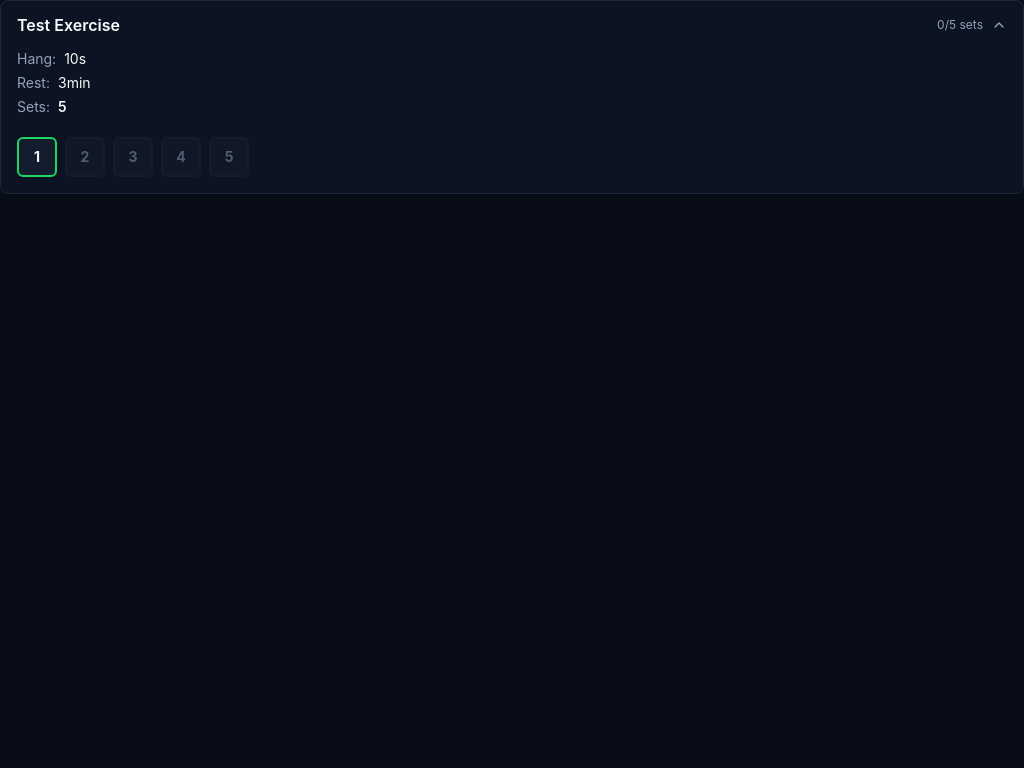
Test case: ExerciseBlock - Sequential Set Logic › confirming revert makes set clickable again
Click the button named "Set 1": click(37, 157) [17,137,57,177]
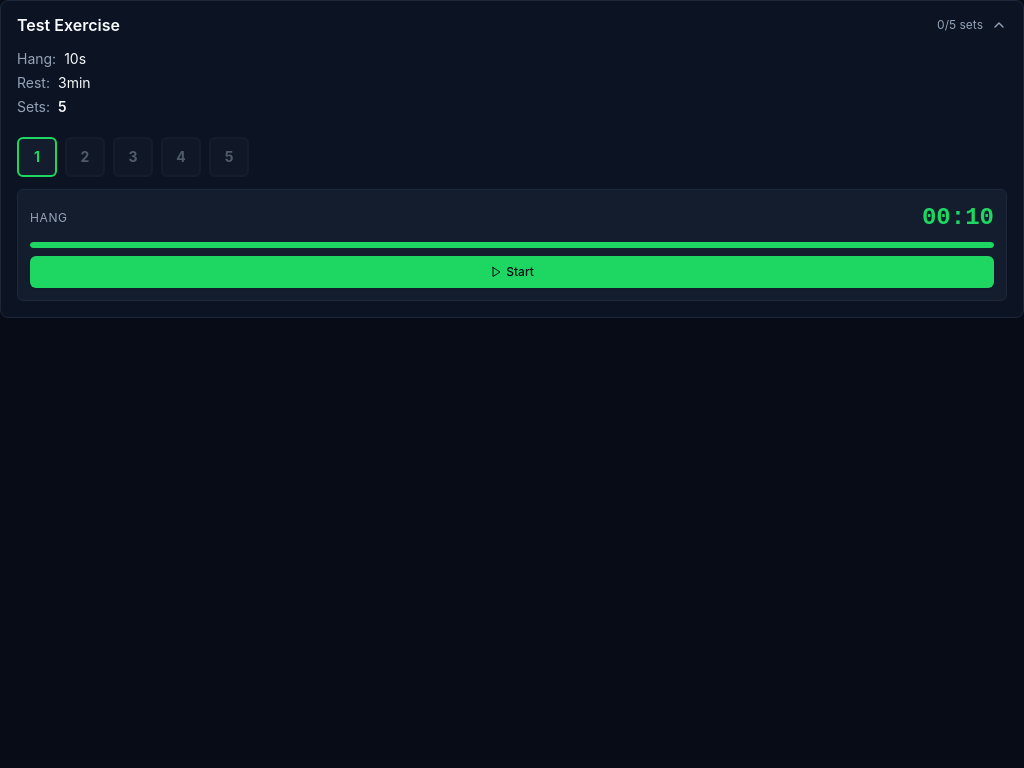
Click the button "Start": click(512, 272) [30,256,994,288]
Wait 11000 ms
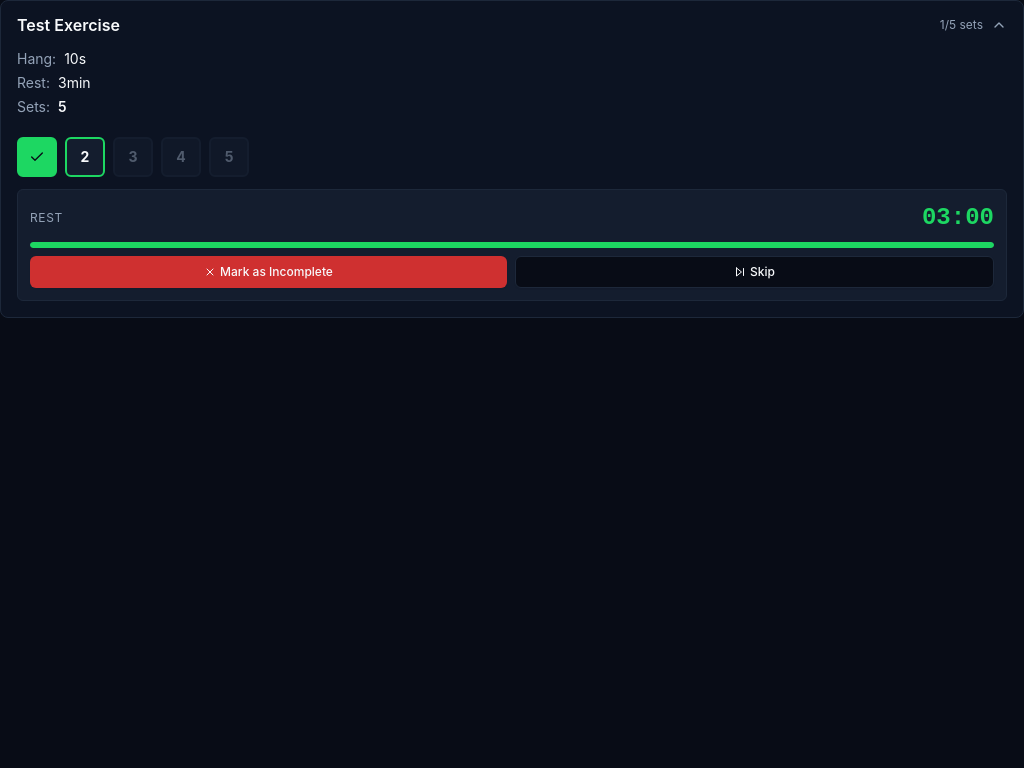
Click the button "Skip": click(754, 272) [515,256,994,288]
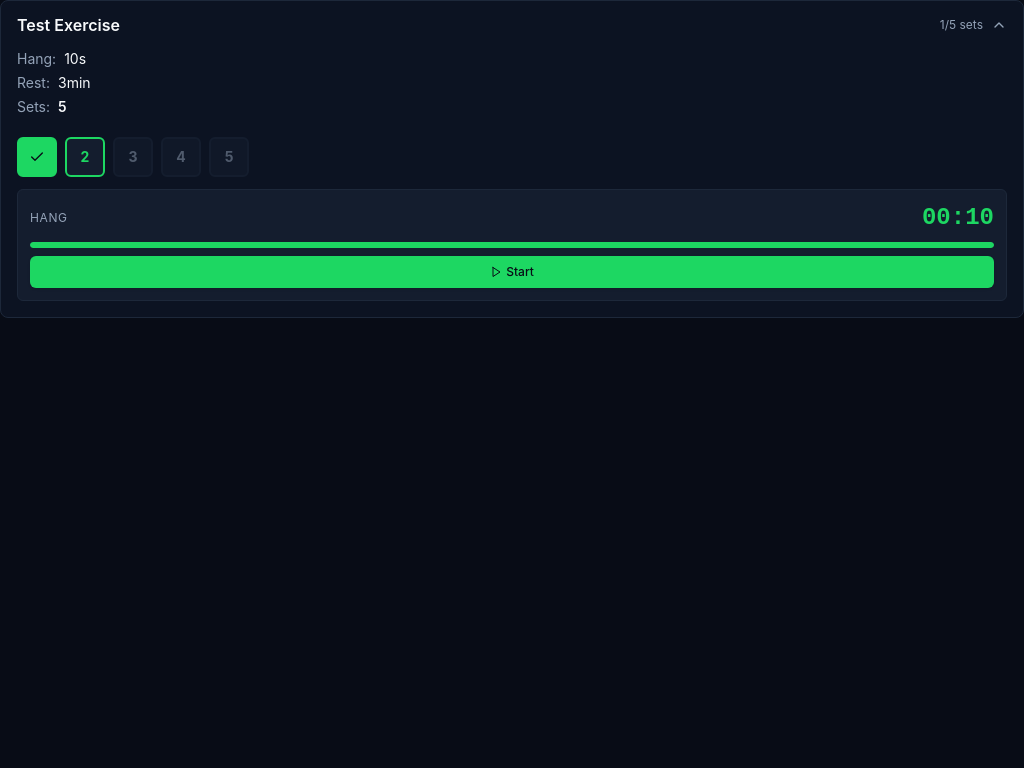
Click the button named "Set 1 (completed)": click(37, 157) [17,137,57,177]
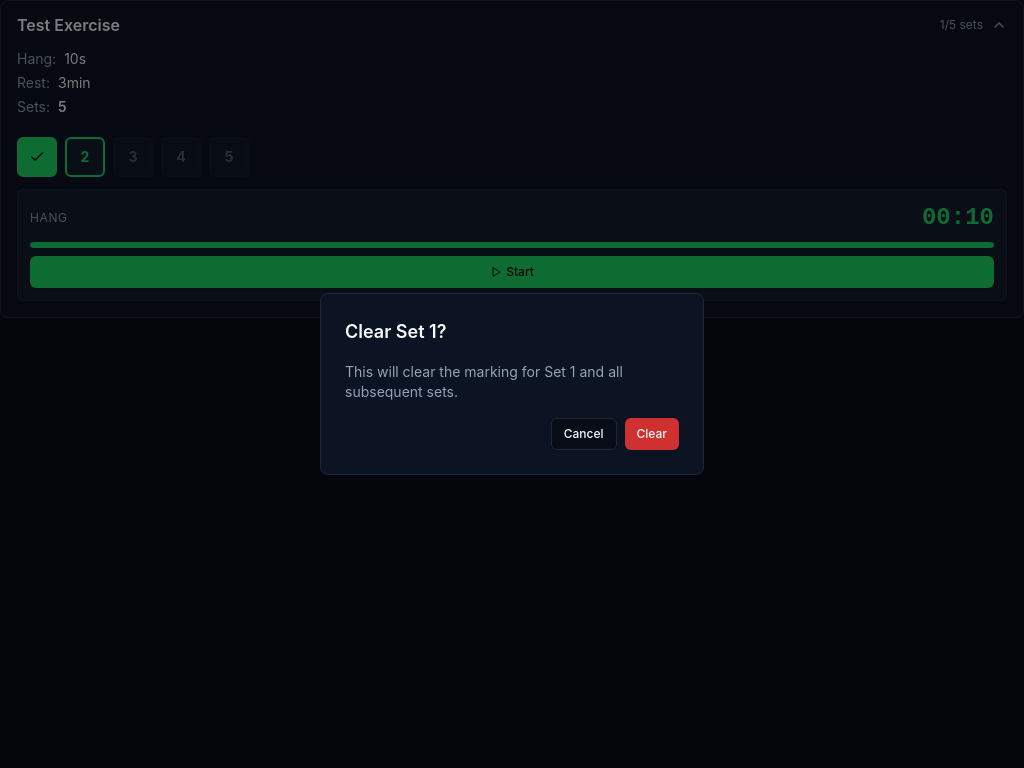
Click the button "Clear": click(652, 434) [624,418,679,450]
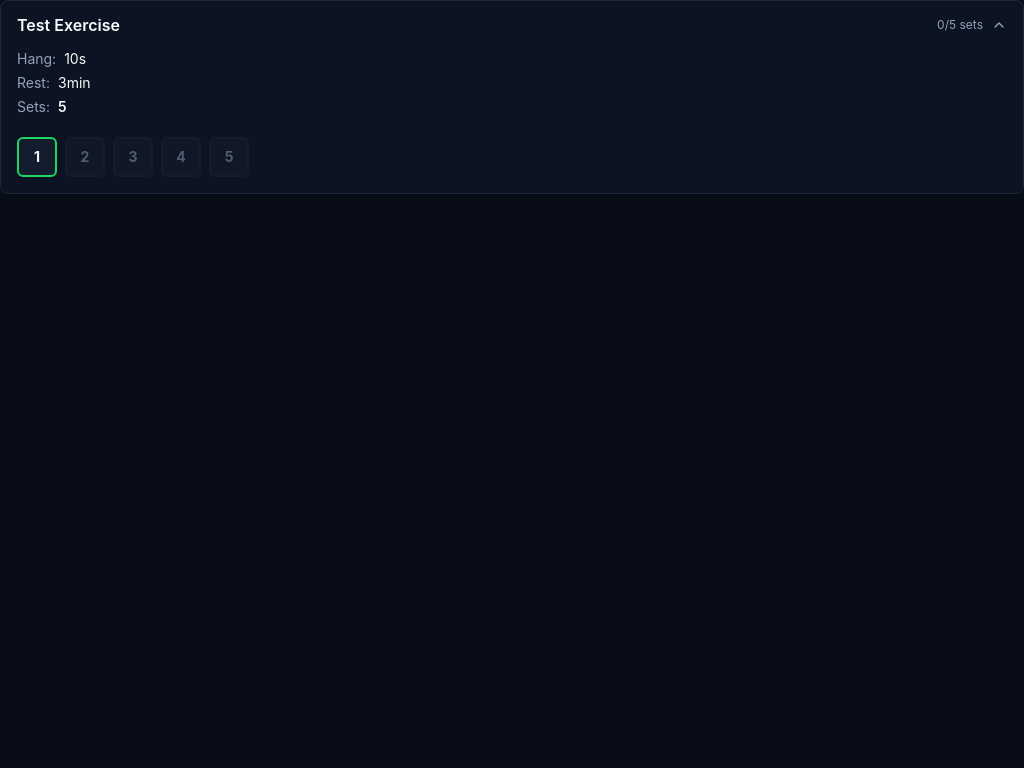
Check: the button named "Set 1 (completed)" is enabled, box [17,137,57,177]
Check: the dialog is gone
